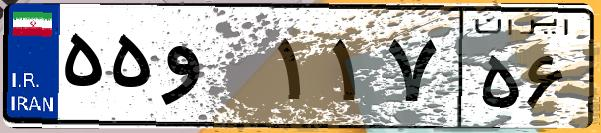1: (270, 28, 330, 110), (330, 28, 385, 110)
5: (57, 26, 110, 100), (475, 38, 525, 113), (110, 28, 158, 98)
6: (525, 38, 570, 115)
7: (385, 28, 445, 110)
و: (158, 20, 270, 120)
